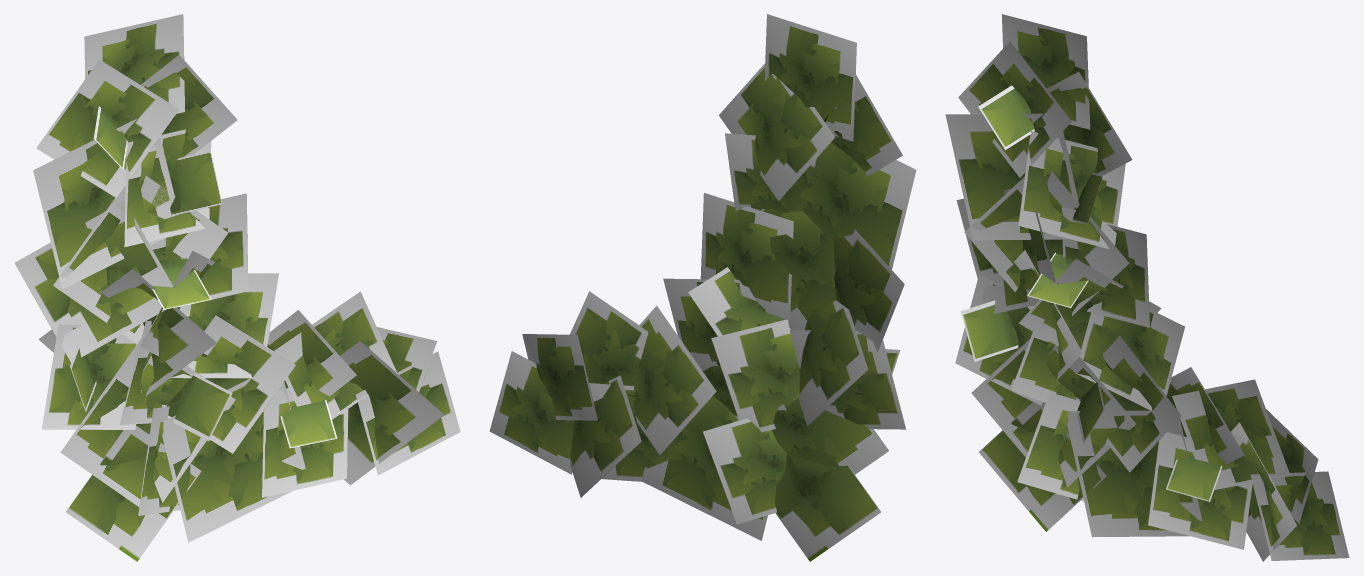
The model's file is Ivy_06.glb.
3 views of the same model, side by side, from view 1: azimuth 30°, elevation 25°; view 2: azimuth 150°, elevation 25°; view 3: azimuth 330°, elevation 25° (orthographic). The views are drawn at different scales.
Visible parts, largest first — view 1: Ivy_06_LOD0; view 2: Ivy_06_LOD0; view 3: Ivy_06_LOD0.
Boxes of the visible parts, bbox=[...] form: Ivy_06_LOD0: bbox=[14, 14, 460, 561]; Ivy_06_LOD0: bbox=[489, 14, 916, 561]; Ivy_06_LOD0: bbox=[945, 14, 1349, 561].
Size of what is drawn, in the model's own units: 1.58 by 1.89 by 0.2828.
Materials: 1 (1 with a texture image).
